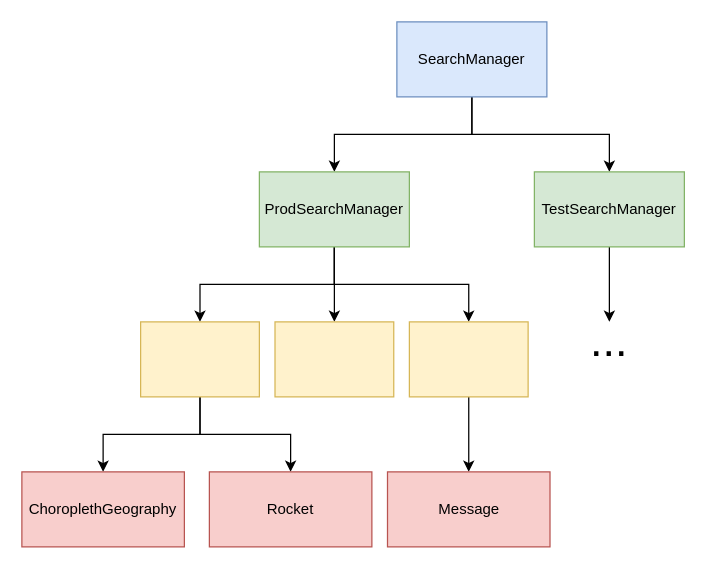
The diagram is 706 pixels wide and 569 high, and some of its shapes have lost their labels. The centre of each missing label's shape, as x and y in pixels:
Counter: the point at 334,359
Map: the point at 199,359
MessageBox: the point at 468,359
